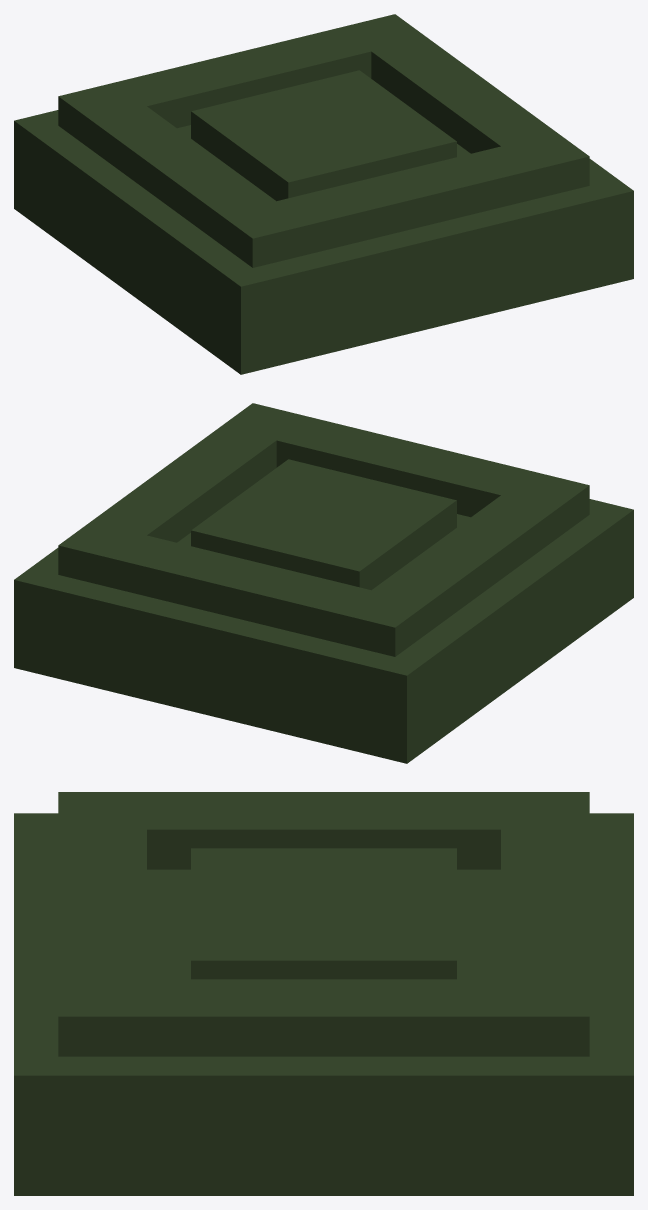
Rendered from man-v3-green.gltf.
The picture shows the model from 3 angles, top to bottom: view 1: azimuth 30°, elevation 25°; view 2: azimuth 150°, elevation 25°; view 3: azimuth 270°, elevation 25°; orthographic projection. The views are drawn at different scales.
Visible parts, largest first — view 1: Untitled; view 2: Untitled; view 3: Untitled.
Boxes of the visible parts, x1,y1,x2,y2 form: Untitled: [14, 14, 633, 374]; Untitled: [14, 403, 633, 763]; Untitled: [14, 792, 633, 1195].
Size of the model in its own units: 1.4 by 0.4 by 1.4.
1 material, 1 textured.
